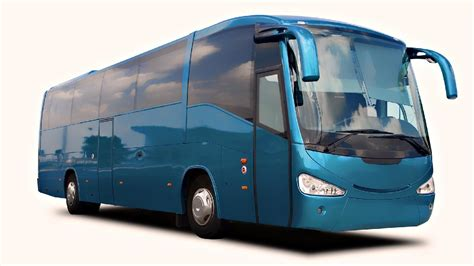bus: (40, 25, 434, 240)
